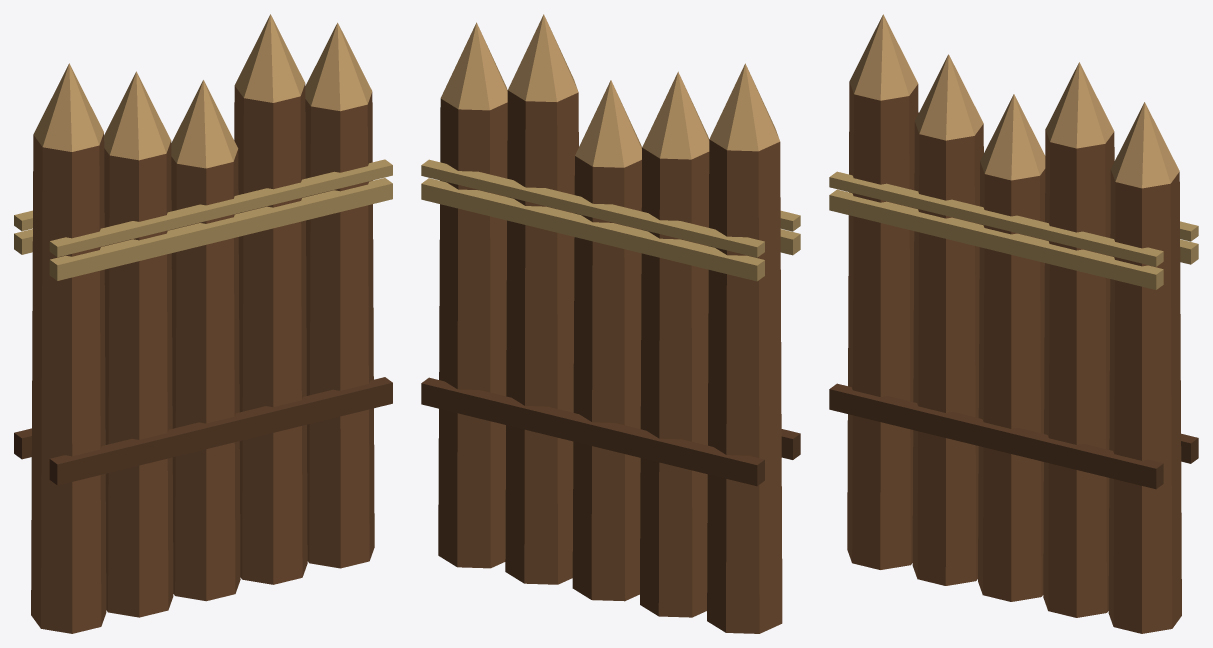
File: palisade_straight.glb
3 views of the same model, side by side, from view 1: azimuth 30°, elevation 25°; view 2: azimuth 150°, elevation 25°; view 3: azimuth 330°, elevation 25° (orthographic). The views are drawn at different scales.
Visible parts, largest first — view 1: wall_palisade_straight; view 2: wall_palisade_straight; view 3: wall_palisade_straight.
Boxes of the visible parts, x1,y1,x2,y2 form: wall_palisade_straight: (14, 14, 392, 633); wall_palisade_straight: (421, 14, 800, 633); wall_palisade_straight: (829, 14, 1198, 633).
Bounding box in the file's own units: 2 × 3.16 × 0.448.
